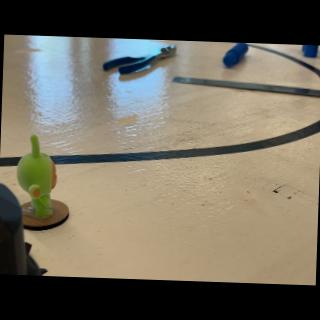teletubby: (17, 135, 57, 217)
